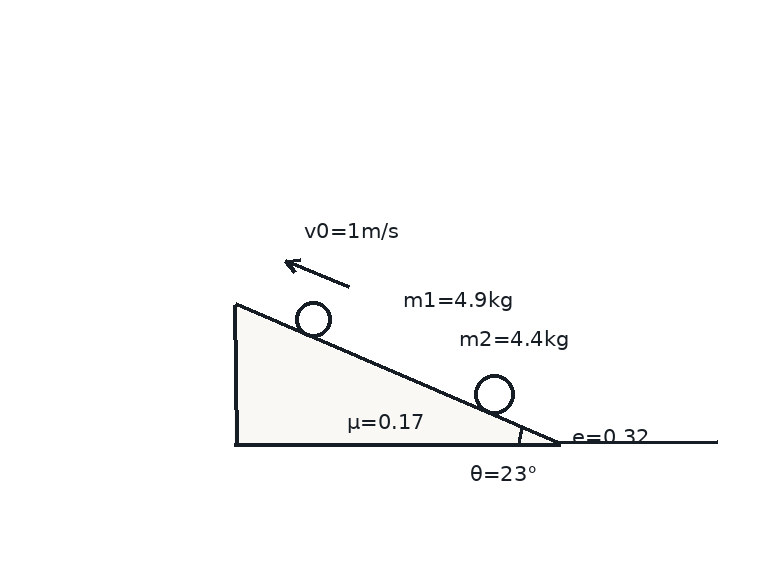ball: (472, 372, 516, 416), (293, 299, 333, 339)
ramp: (233, 303, 561, 445)
